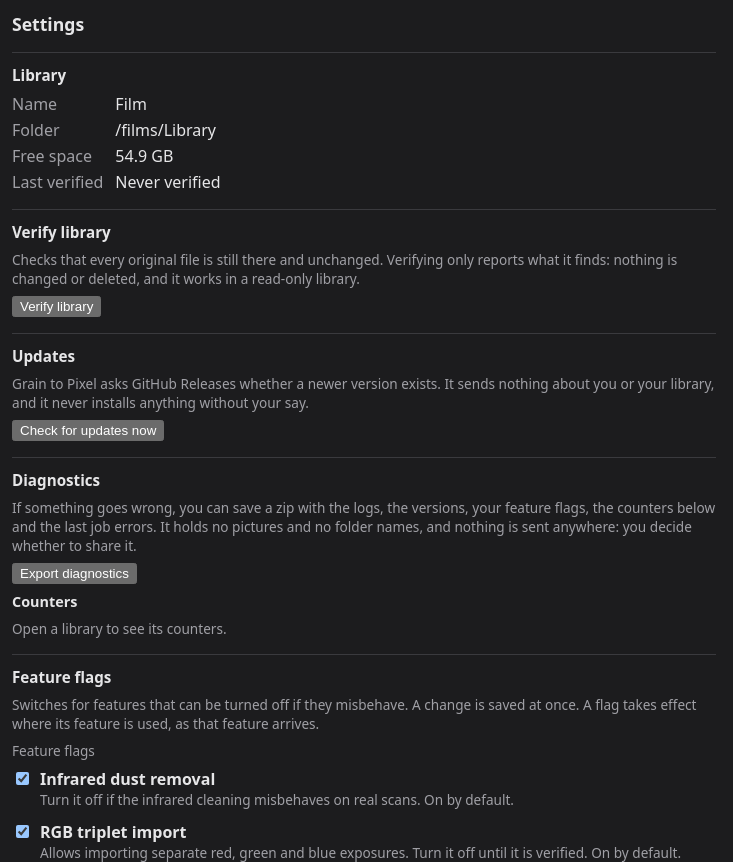
Test case: verifying the library from Settings › while it runs › shows the message of a job that failed
Step 1. Click the button "Verify library" → (57, 306), box [12,296,101,317]
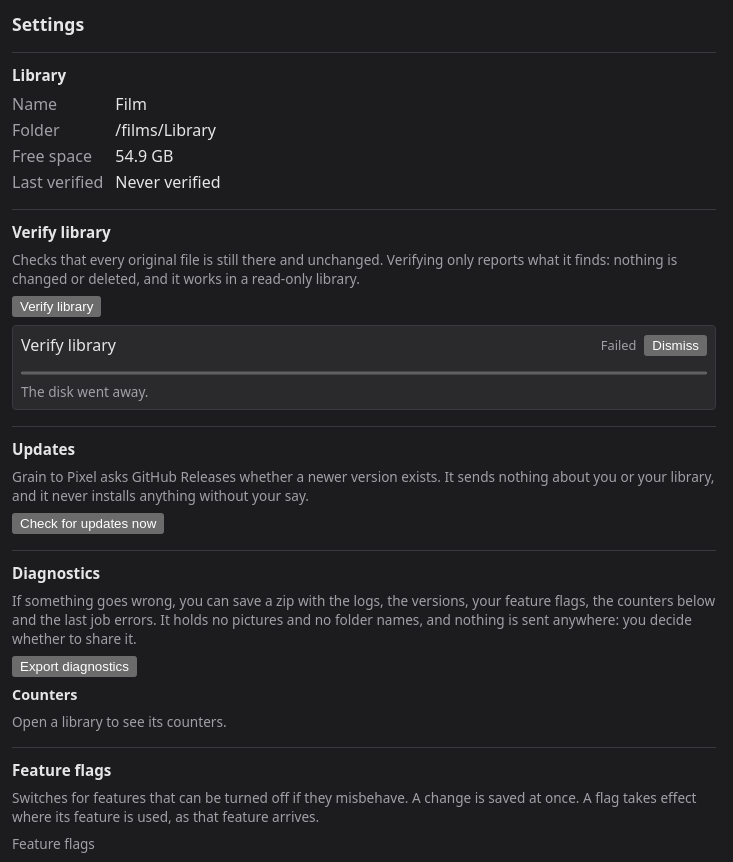
Check: the progress indicator named "Verify library" is shown, box [21,370,707,376]
Check: the text "The disk went away." is shown, box [21,382,148,401]
